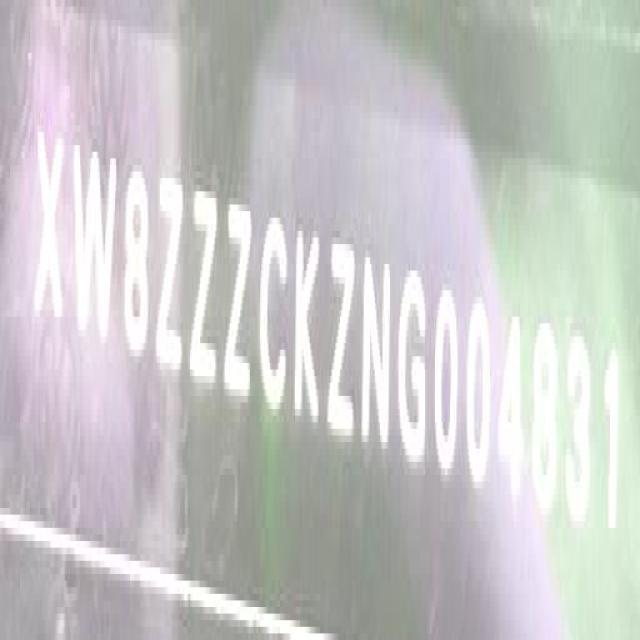0: (433, 279, 459, 496), (466, 284, 489, 498)
1: (602, 340, 620, 535)
3: (565, 330, 592, 528)
4: (496, 308, 526, 513)
8: (531, 315, 559, 521), (124, 158, 150, 362)
C: (259, 208, 288, 418)
G: (396, 262, 429, 474)
K: (293, 215, 323, 433)
N: (361, 242, 392, 467)
W: (71, 137, 118, 354)
X: (32, 120, 66, 357)
Z: (188, 181, 221, 398), (155, 161, 186, 386), (224, 193, 254, 406), (327, 230, 357, 440)
